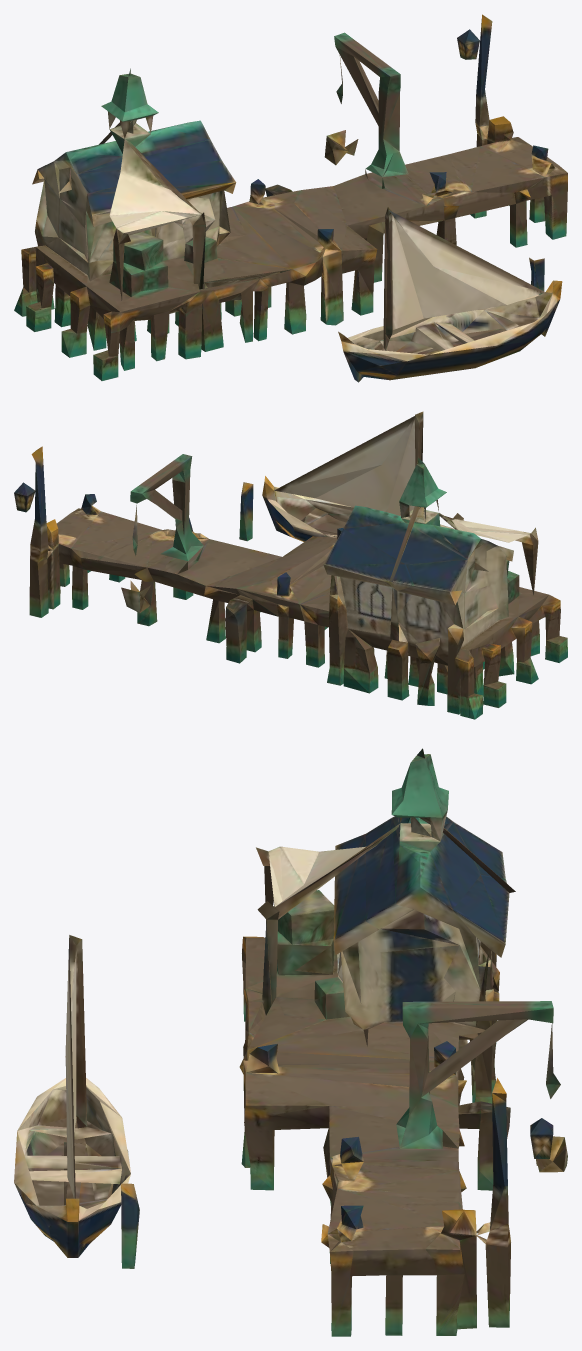
The model's file is harbor.glb.
The picture shows the model from 3 angles, top to bottom: view 1: azimuth 30°, elevation 25°; view 2: azimuth 150°, elevation 25°; view 3: azimuth 270°, elevation 25°; orthographic projection. The views are drawn at different scales.
Visible parts, largest first — view 1: harbor; view 2: harbor; view 3: harbor.
Boxes of the visible parts, bbox=[...] form: harbor: bbox=[14, 14, 567, 382]; harbor: bbox=[14, 411, 567, 719]; harbor: bbox=[14, 748, 567, 1336].
Size of the model in its own units: 5.74e-05 by 2.67e-05 by 4.11e-05.
Materials: 1 (1 with a texture image).
